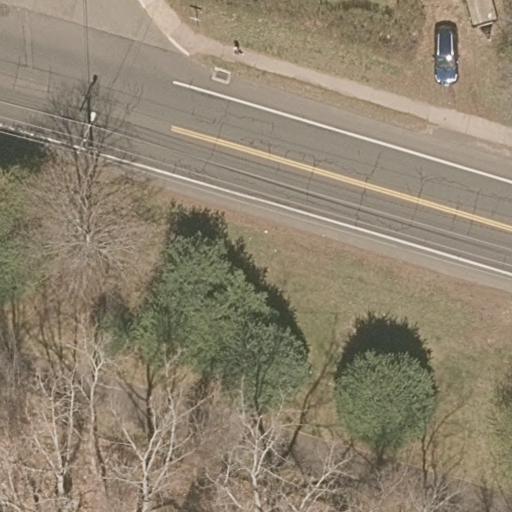DT: (74, 105, 100, 157)
